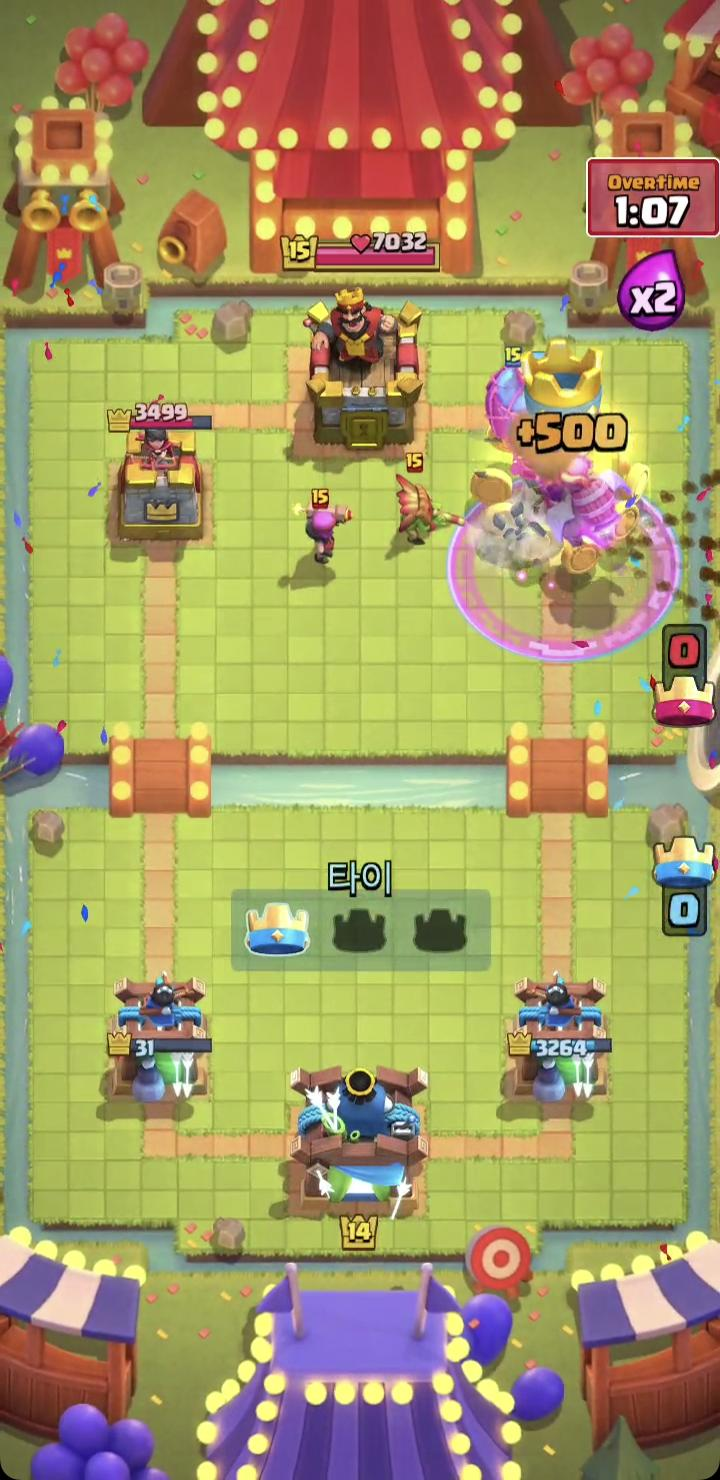ally_balloon: (482, 344, 590, 482)
ally_infernodragon: (533, 443, 633, 553)
ally_rage: (447, 470, 684, 666)
enemy_dart_goblin: (396, 450, 469, 548)
enemy_firecracker: (290, 484, 355, 566)
